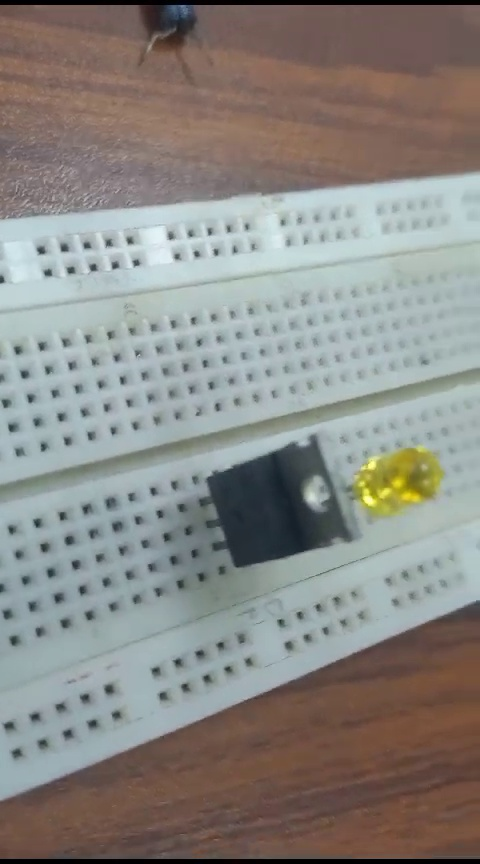LED: (363, 443, 447, 519)
voltage regulator: (208, 433, 355, 567)
